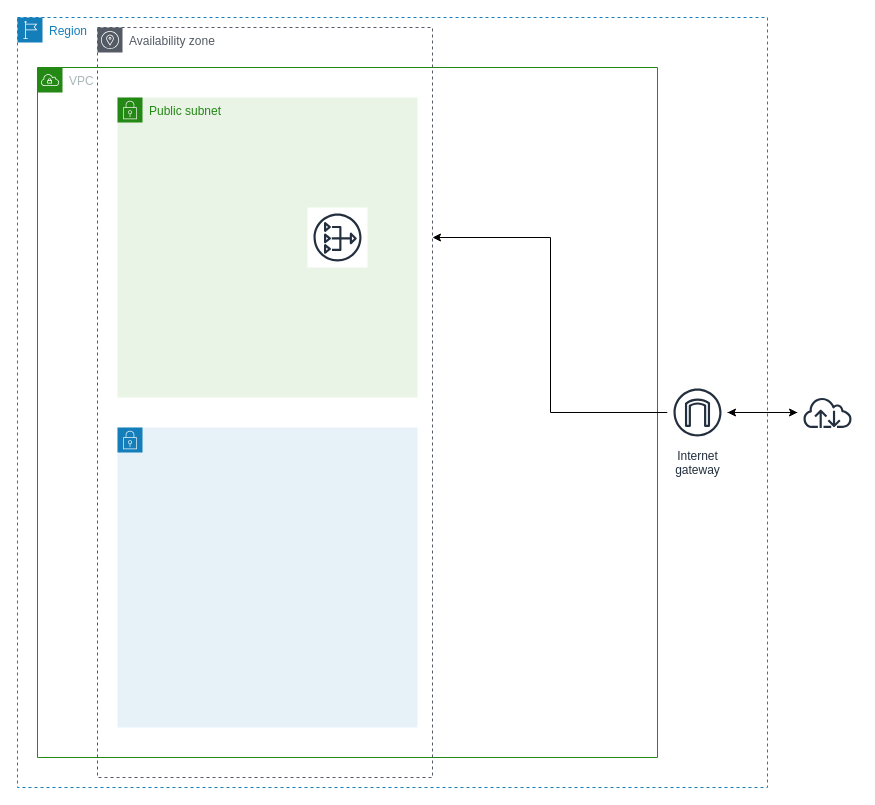
This 875x805 diagram has some shape labels left out. Each missing label, with the centre of its shape:
Internet: (x=827, y=412)
NAT gateway: (x=337, y=237)
Private subnet: (x=267, y=577)
